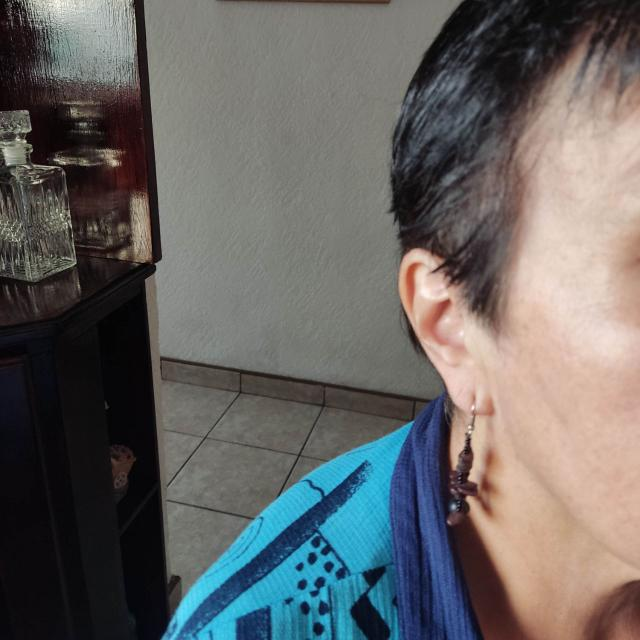ear: (399, 249, 495, 416)
